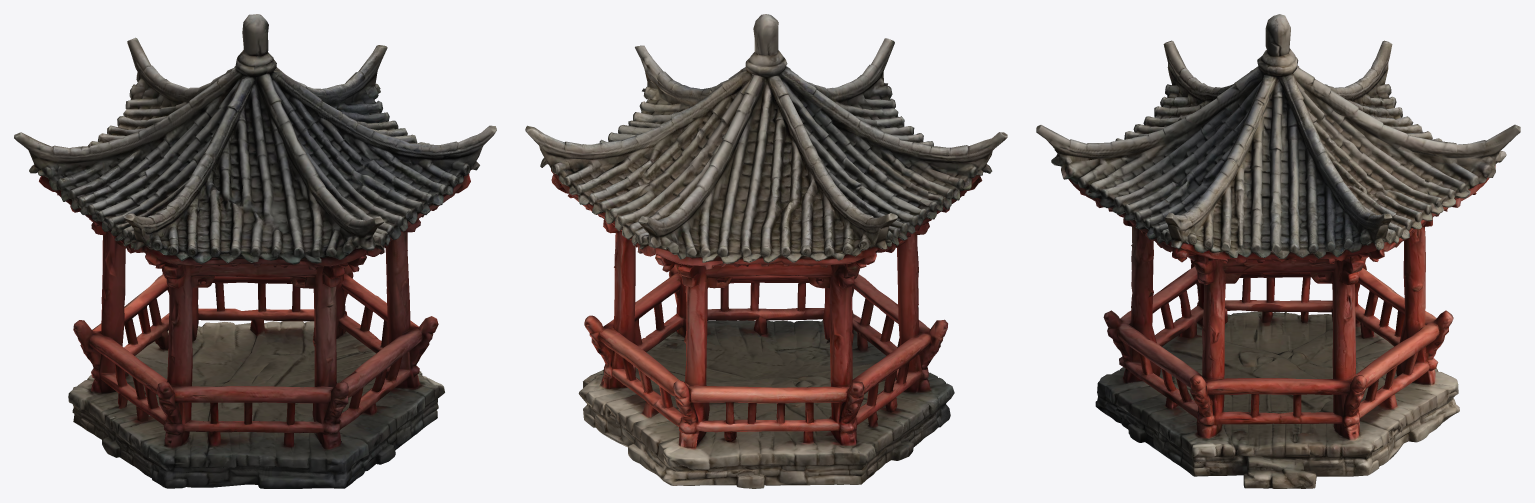
The model's file is pavilion-high.glb.
The picture shows the model from 3 angles, left to right: view 1: azimuth 30°, elevation 25°; view 2: azimuth 150°, elevation 25°; view 3: azimuth 270°, elevation 25°; orthographic projection. The views are drawn at different scales.
Bounding box in the file's own units: 0.8649 × 0.8994 × 0.998.
Materials: 1 (1 with a texture image).
